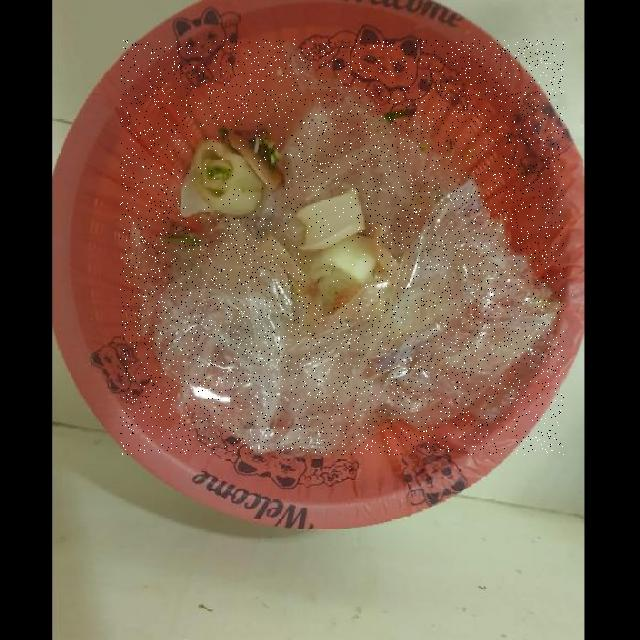biowaste: (180, 127, 285, 217), (307, 236, 377, 303), (294, 192, 366, 251)
plastic: (120, 39, 564, 455)
